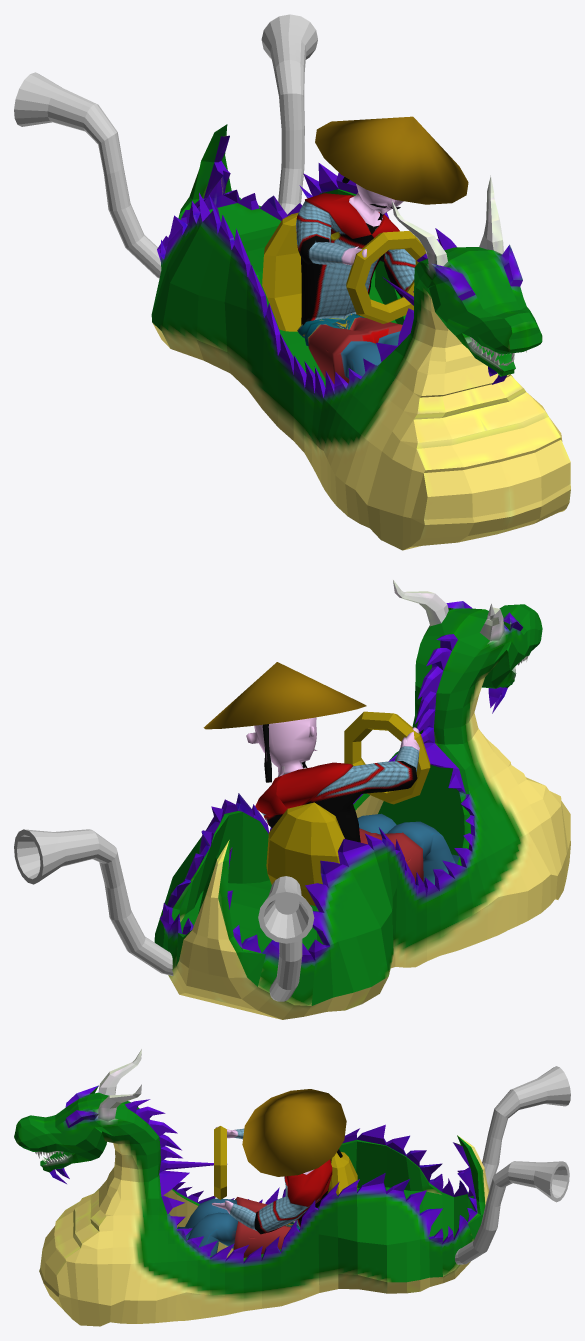
The model's file is ChinoGiroIzq_000192.obj.
The picture shows the model from 3 angles, top to bottom: view 1: azimuth 30°, elevation 25°; view 2: azimuth 150°, elevation 25°; view 3: azimuth 270°, elevation 25°; orthographic projection. The views are drawn at different scales.
Parts seen in each view (by area): view 1: ChasisChino_ChasisChinoH, Chino_ChinoH, Tubos_TubosH, AsientoChinoMalla_AsientoChinoMH, volanteChino_VolanteChinoH; view 2: ChasisChino_ChasisChinoH, Chino_ChinoH, Tubos_TubosH, AsientoChinoMalla_AsientoChinoMH, volanteChino_VolanteChinoH; view 3: ChasisChino_ChasisChinoH, Chino_ChinoH, Tubos_TubosH, volanteChino_VolanteChinoH, AsientoChinoMalla_AsientoChinoMH.
Part boxes in pixels (x1,y1,x2,y2): ChasisChino_ChasisChinoH: (151,124,570,550); Chino_ChinoH: (296,116,468,383); Tubos_TubosH: (14,14,317,278); AsientoChinoMalla_AsientoChinoMH: (262,212,301,331); volanteChino_VolanteChinoH: (346,231,425,323); ChasisChino_ChasisChinoH: (154,580,570,1019); Chino_ChinoH: (203,662,459,884); Tubos_TubosH: (14,829,314,1001); AsientoChinoMalla_AsientoChinoMH: (266,802,344,906); volanteChino_VolanteChinoH: (344,711,430,804); ChasisChino_ChasisChinoH: (14,1049,489,1326); Chino_ChinoH: (177,1089,346,1257); Tubos_TubosH: (455,1066,570,1264); volanteChino_VolanteChinoH: (214,1126,226,1199); AsientoChinoMalla_AsientoChinoMH: (327,1152,357,1194).
Size of the model in its own units: 6.15 by 6.07 by 13.3.
